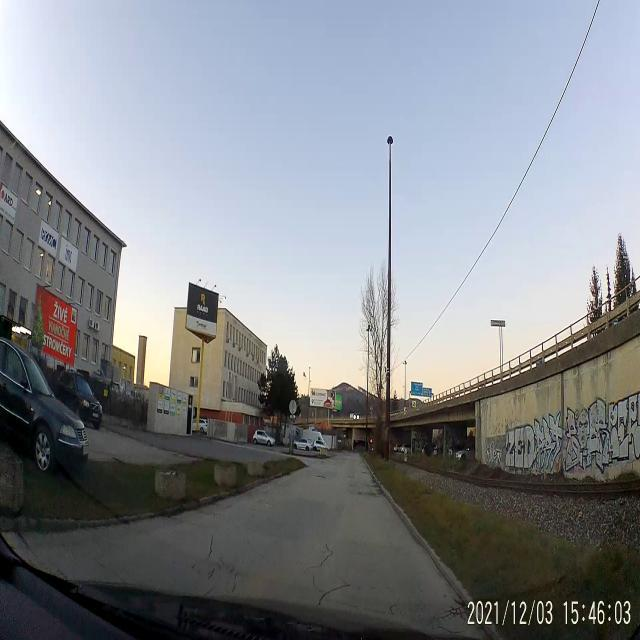Pothole: (346, 481, 378, 503), (310, 472, 328, 486)
